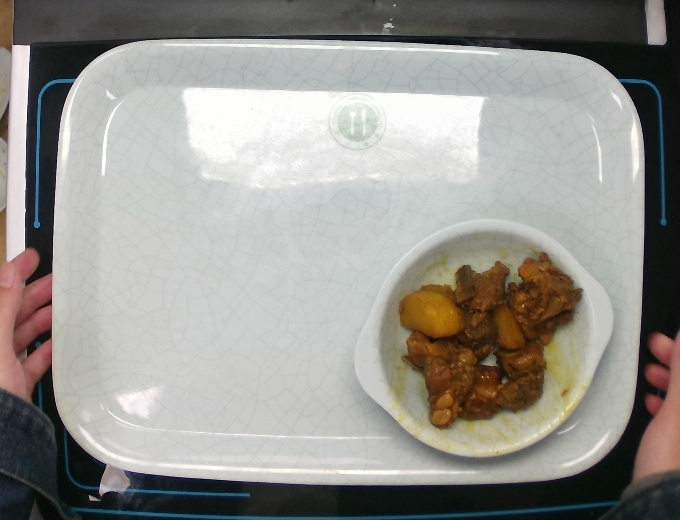JYsf-Shuang_Er_Wan: (349, 211, 616, 465)
